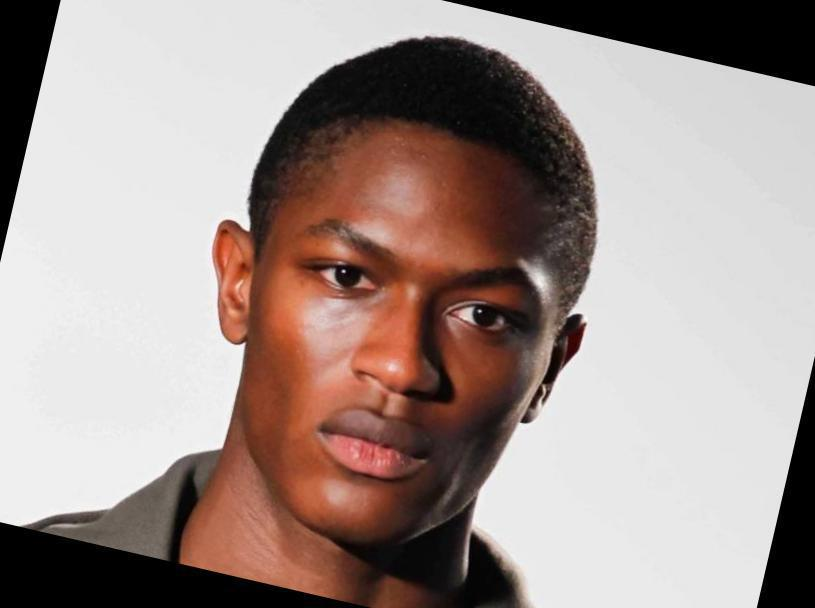Sober: (265, 135, 562, 517)
